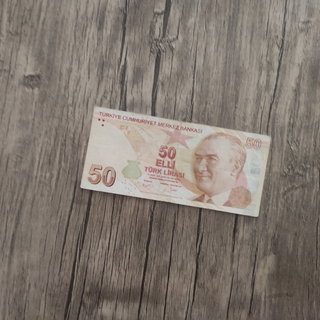50TLFront: (79, 106, 273, 218)
